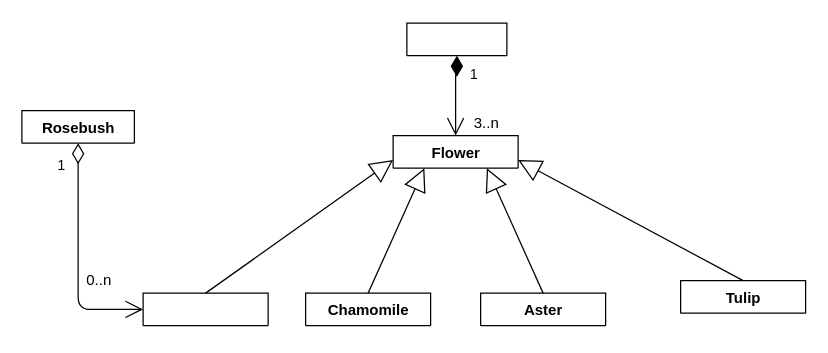
Image size: 828x353. Some labels were removed from this diagram. The centre of each missing label's shape, as x and y in pixels:
Bouquet: (x=456, y=39)
Rose: (x=205, y=309)
